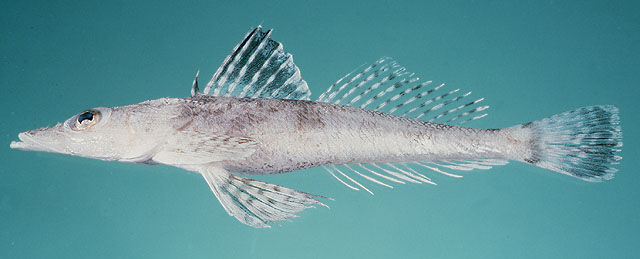fish: (8, 21, 624, 230)
